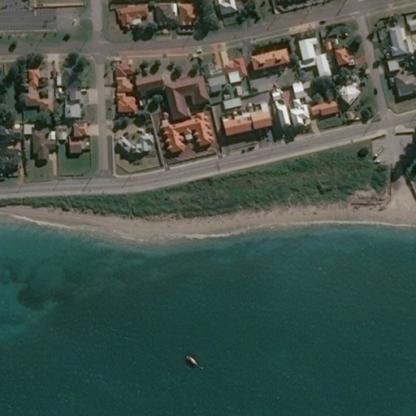ship: (180, 351, 206, 372)
